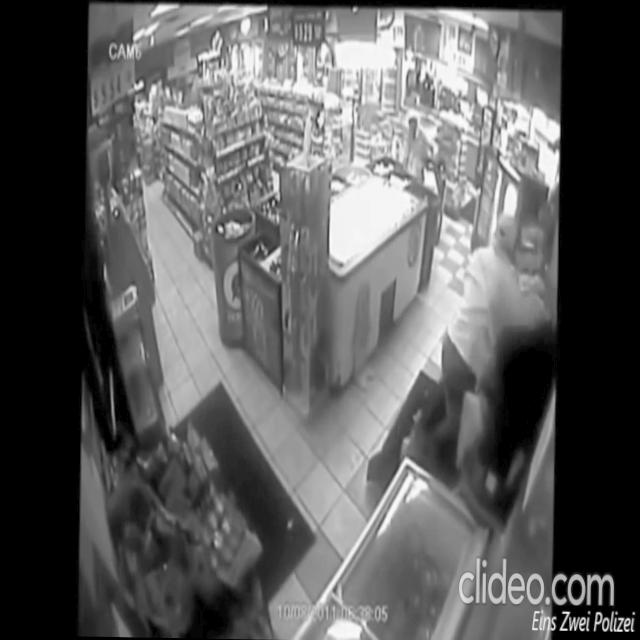person: (400, 209, 558, 473), (463, 306, 558, 506), (394, 106, 440, 239)
